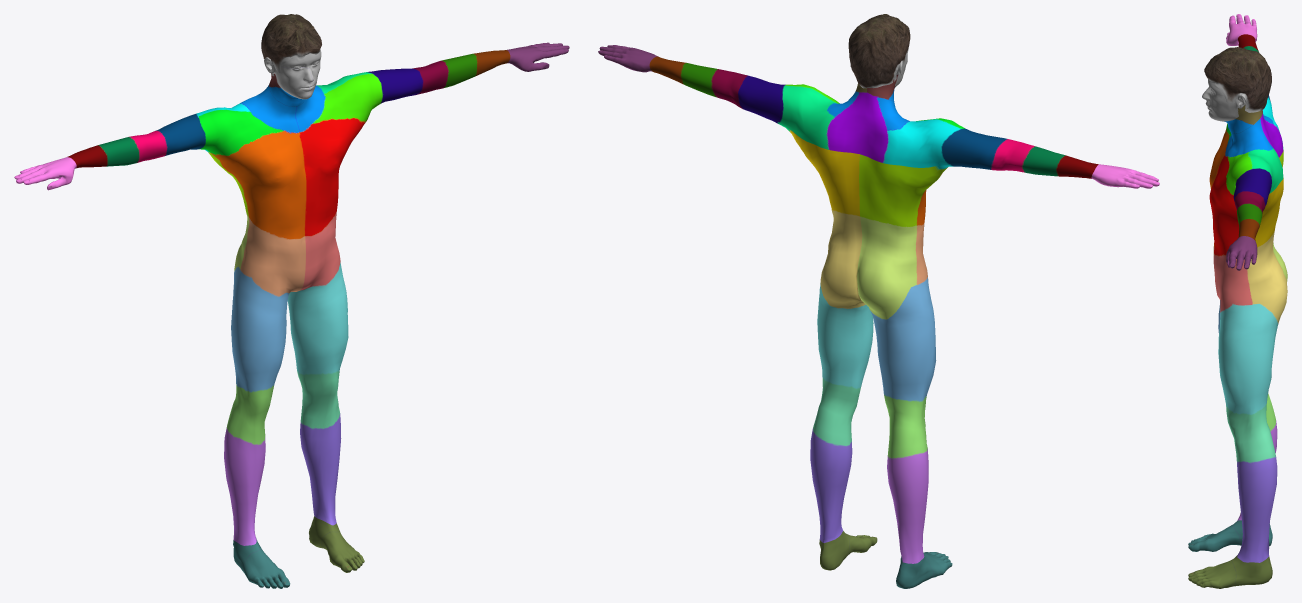
The model's file is char1.obj.
3 views of the same model, side by side, from view 1: azimuth 30°, elevation 25°; view 2: azimuth 150°, elevation 25°; view 3: azimuth 270°, elevation 25° (orthographic). The views are drawn at different scales.
Visible parts, largest first — view 1: char1Mesh_char1, short02Mesh_short02; view 2: char1Mesh_char1, short02Mesh_short02; view 3: char1Mesh_char1, short02Mesh_short02.
Part boxes in pixels (x1,y1,x2,y2): char1Mesh_char1: (14, 42, 569, 588); short02Mesh_short02: (261, 14, 321, 76); char1Mesh_char1: (598, 45, 1159, 588); short02Mesh_short02: (848, 14, 910, 88); char1Mesh_char1: (1188, 14, 1287, 588); short02Mesh_short02: (1204, 47, 1271, 112).
Bounding box in the file's own units: 20.48 × 19.3 × 3.37.
3 materials, 3 textured.
